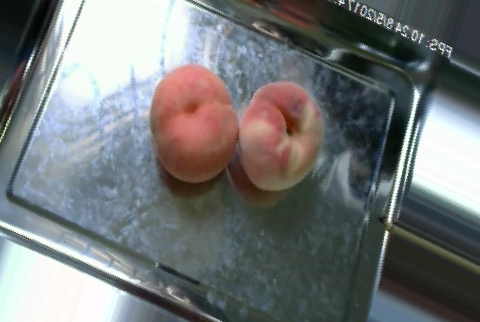Peach: (148, 65, 238, 183), (232, 82, 326, 193)
